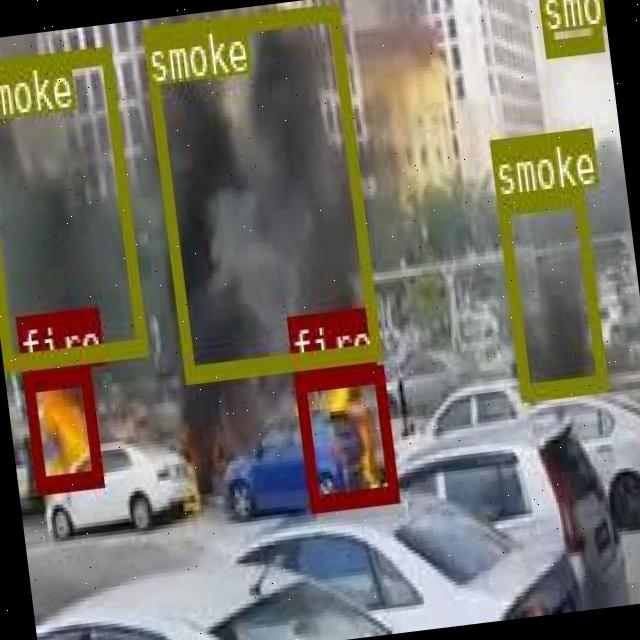fire: (292, 361, 396, 507), (20, 365, 100, 489)
smoke: (141, 3, 378, 379), (0, 42, 145, 369), (496, 185, 606, 396), (534, 0, 601, 55)
